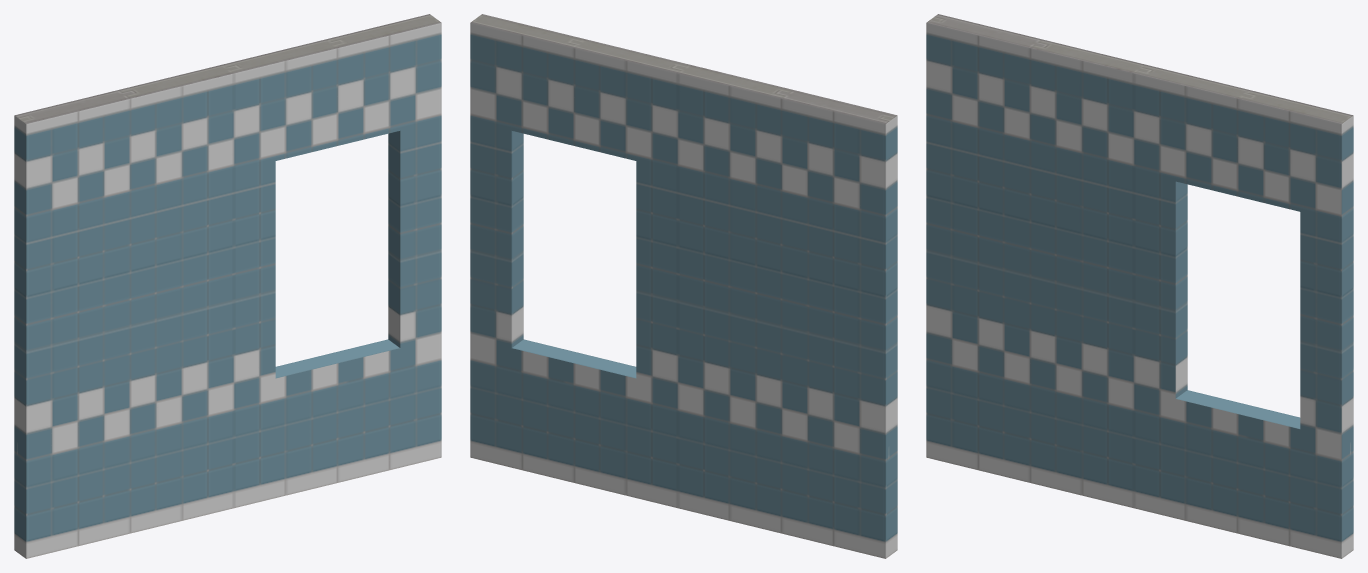
File: wall8_7.fbx
The picture shows the model from 3 angles, left to right: view 1: azimuth 30°, elevation 25°; view 2: azimuth 150°, elevation 25°; view 3: azimuth 330°, elevation 25°; orthographic projection.
Parts seen in each view (by area): view 1: wall8_bathroom_g; view 2: wall8_bathroom_g; view 3: wall8_bathroom_g.
Boxes of the visible parts, <box> form: wall8_bathroom_g: <box>14,14,441,558</box>; wall8_bathroom_g: <box>470,14,897,558</box>; wall8_bathroom_g: <box>926,14,1353,558</box>.
Size of the model in its own units: 400 by 400 by 20.
